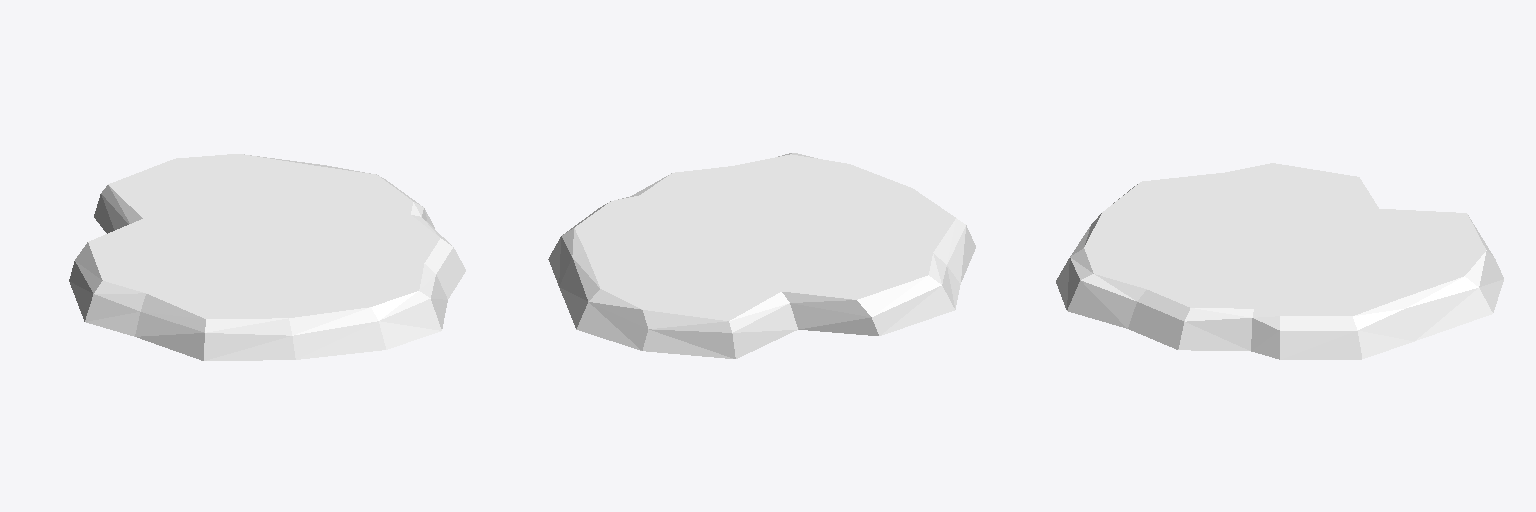
File: Ground.obj
The picture shows the model from 3 angles: view 1: azimuth 30°, elevation 25°; view 2: azimuth 150°, elevation 25°; view 3: azimuth 270°, elevation 25°; orthographic projection.
Visible parts, largest first — view 1: SM_Env_IceChunk_01_Mesh; view 2: SM_Env_IceChunk_01_Mesh; view 3: SM_Env_IceChunk_01_Mesh.
Boxes of the visible parts, x1=… form: SM_Env_IceChunk_01_Mesh: x1=69, y1=154, x2=465, y2=360; SM_Env_IceChunk_01_Mesh: x1=548, y1=153, x2=975, y2=358; SM_Env_IceChunk_01_Mesh: x1=1056, y1=163, x2=1503, y2=359.
Size of the model in its own units: 326 by 28.46 by 353.